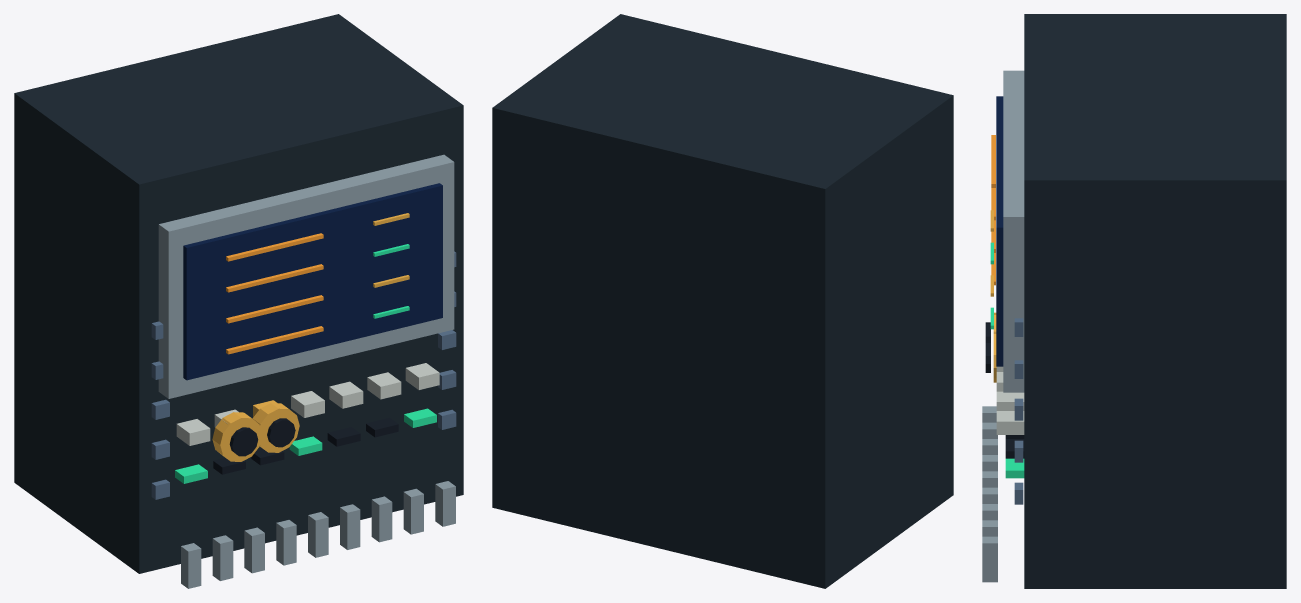
Rendered from 55_L84_SolarRadiationPressureTorqueModel.fbx.
3 views of the same model, side by side, from view 1: azimuth 30°, elevation 25°; view 2: azimuth 150°, elevation 25°; view 3: azimuth 270°, elevation 25° (orthographic). The views are drawn at different scales.
Parts seen in each view (by area): view 1: L84_SolarRadiationPressureTorqueModel, L84_SolarRadiationPressureTorqueModel_Part_0009, L84_SolarRadiationPressureTorqueModel_Part_0011, L84_SolarRadiationPressureTorqueModel_Part_0010, L84_SolarRadiationPressureTorqueModel_Part_0012; view 2: L84_SolarRadiationPressureTorqueModel; view 3: L84_SolarRadiationPressureTorqueModel.
Part boxes in pixels (left/top/right/bottom): L84_SolarRadiationPressureTorqueModel: left=14, top=14, right=463, bottom=588; L84_SolarRadiationPressureTorqueModel_Part_0009: left=212, top=412, right=261, bottom=461; L84_SolarRadiationPressureTorqueModel_Part_0011: left=252, top=403, right=299, bottom=452; L84_SolarRadiationPressureTorqueModel_Part_0010: left=229, top=427, right=258, bottom=456; L84_SolarRadiationPressureTorqueModel_Part_0012: left=267, top=418, right=295, bottom=447; L84_SolarRadiationPressureTorqueModel: left=492, top=14, right=953, bottom=588; L84_SolarRadiationPressureTorqueModel: left=982, top=14, right=1286, bottom=588.
Size of the model in its own units: 99.96 by 117 by 77.32.
